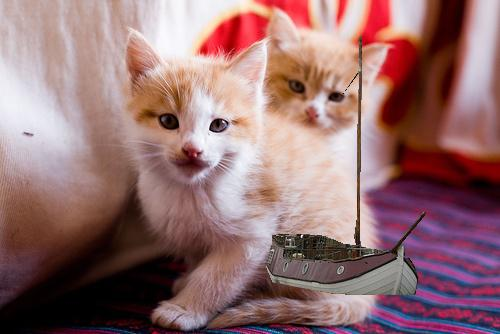tampered: (266, 37, 426, 295)
